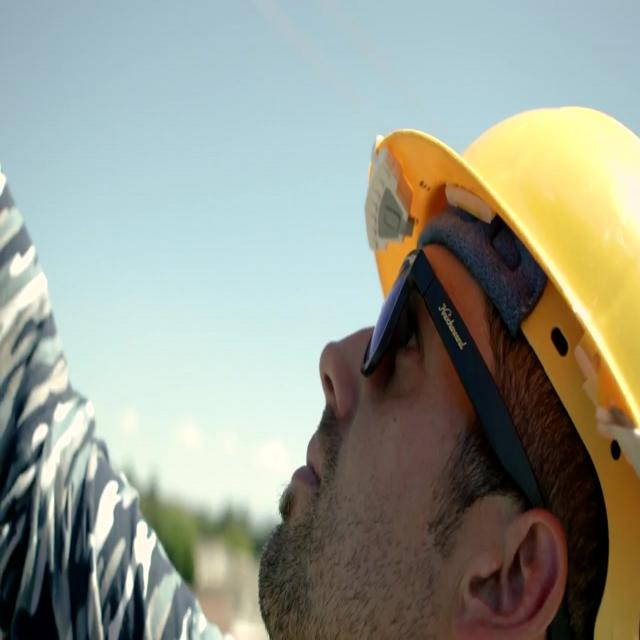Safety-Helmet: (354, 90, 639, 597)
